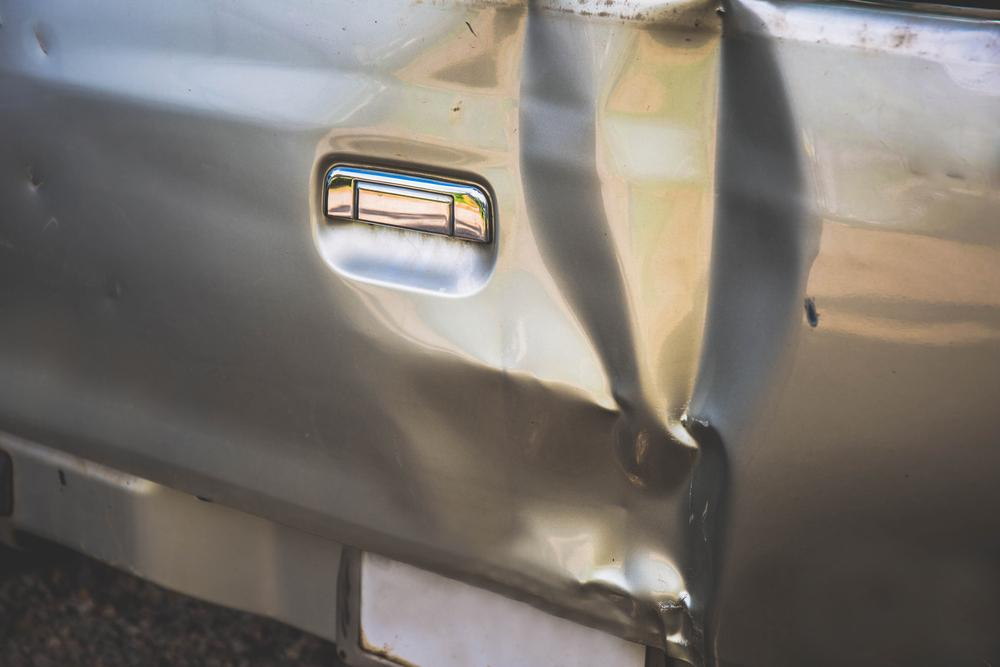dent: (325, 0, 816, 667), (21, 18, 62, 67), (24, 171, 48, 197)
